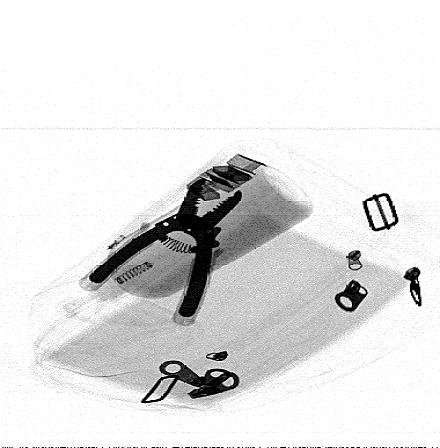Pliers: (88, 175, 243, 319)
